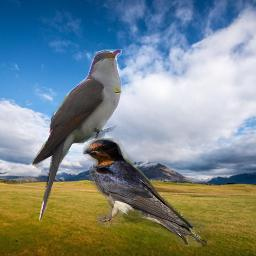Cuckoo: (31, 49, 122, 224)
Swallow: (83, 138, 213, 250)
